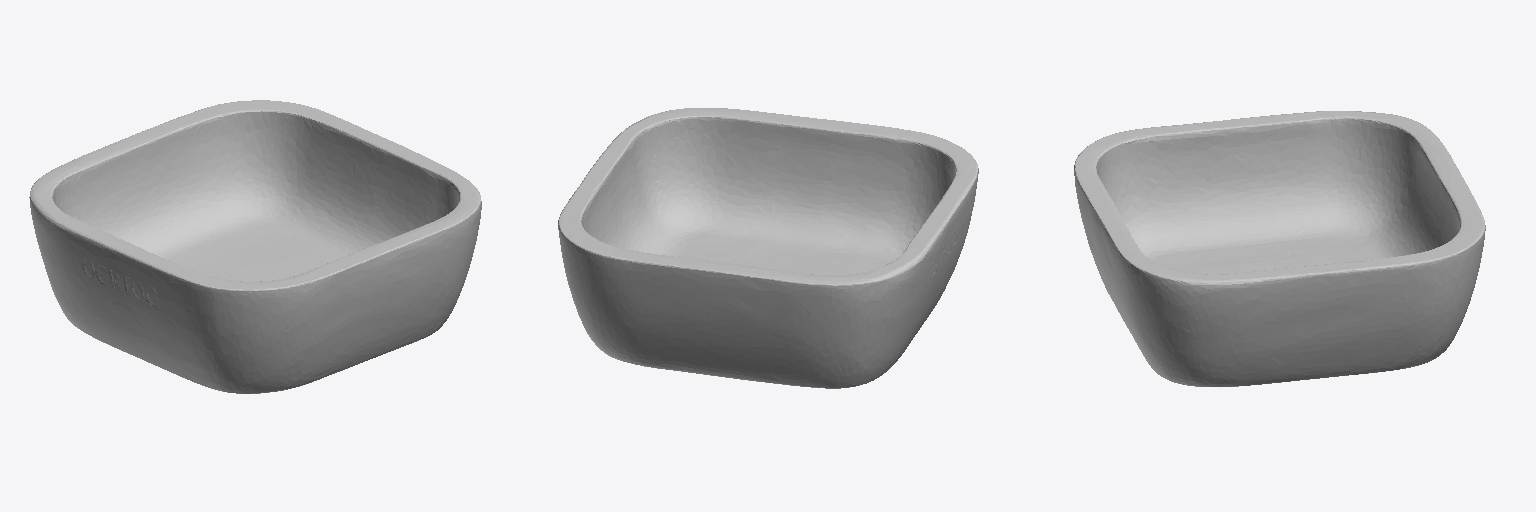
3 views of the same model, side by side, from view 1: azimuth 30°, elevation 25°; view 2: azimuth 150°, elevation 25°; view 3: azimuth 270°, elevation 25° (orthographic).
Visible parts, largest first — view 1: [number redacted]_004_wan2; view 2: [number redacted]_004_wan2; view 3: [number redacted]_004_wan2.
Boxes of the visible parts, x1,y1,x2,y2 form: [number redacted]_004_wan2: [29, 100, 481, 393]; [number redacted]_004_wan2: [558, 108, 978, 388]; [number redacted]_004_wan2: [1074, 111, 1485, 386].
Size of the model in its own units: 0.1369 by 0.0452 by 0.1371.